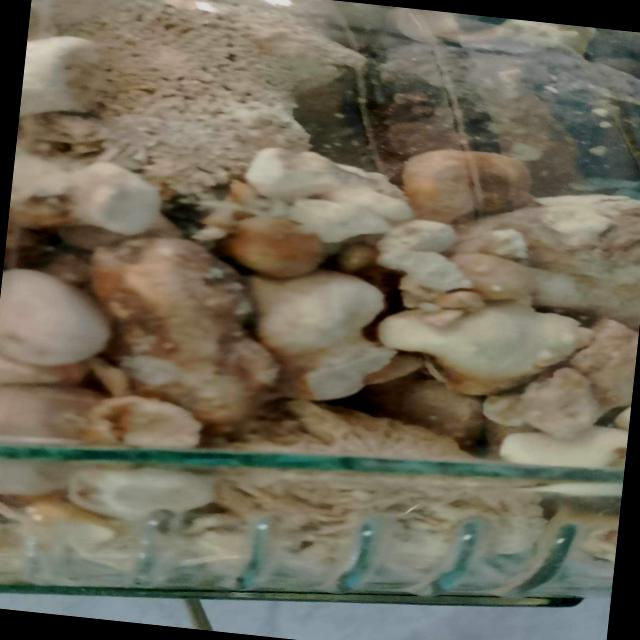General: (3, 3, 638, 600), (2, 437, 626, 607)
Sharps: (235, 520, 272, 590)
